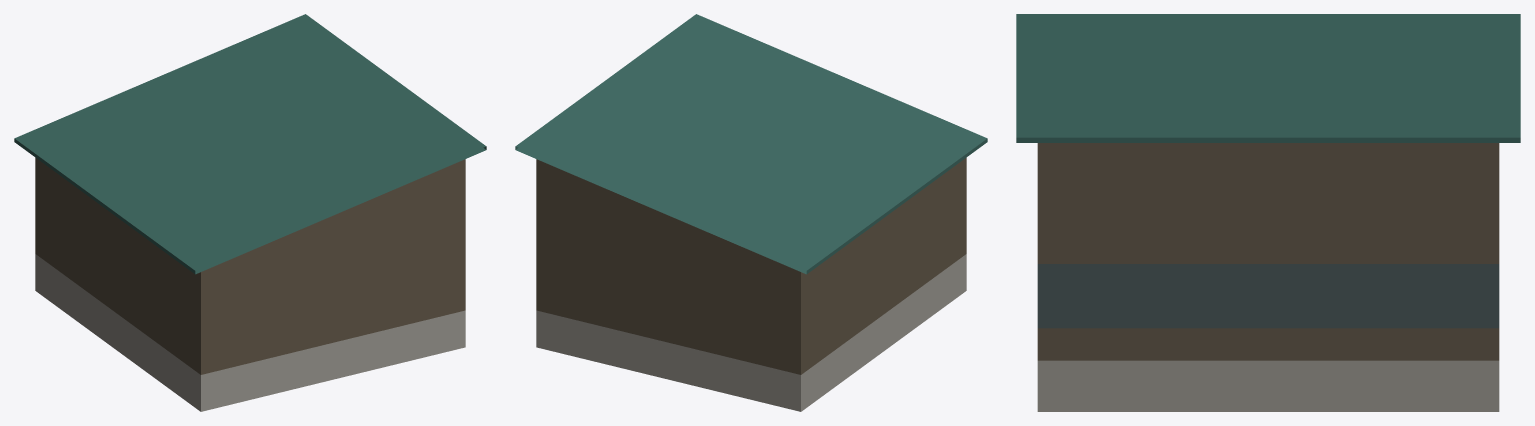
Rendered from mashup-hut_log-far.fbx.
3 renders of one model, left to right at view 1: azimuth 30°, elevation 25°; view 2: azimuth 150°, elevation 25°; view 3: azimuth 270°, elevation 25°, orthographic. The views are drawn at different scales.
Parts seen in each view (by area): view 1: a2015.hut_log.far; view 2: a2015.hut_log.far; view 3: a2015.hut_log.far.
Part boxes in pixels (left/top/right/bottom): a2015.hut_log.far: left=14, top=14, right=486, bottom=411; a2015.hut_log.far: left=515, top=14, right=987, bottom=411; a2015.hut_log.far: left=1016, top=14, right=1520, bottom=411.
Bounding box in the file's own units: 6.6 × 4.4 × 7.1.
